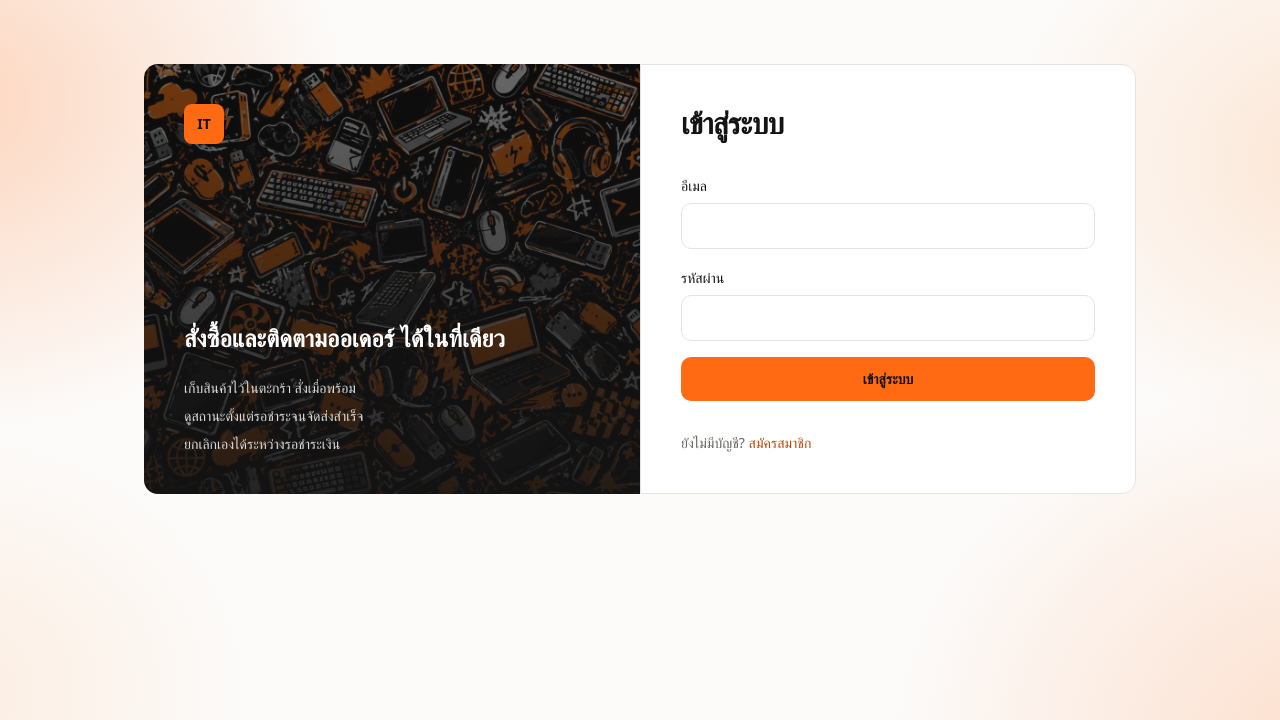
รหัสผิด ต้องแสดงข้อความจาก server และยังอยู่หน้าเดิม
The image size is (1280, 720).
In the field labelled "อีเมล": coordinates (888, 226) [681,203,1095,249], type "ness@example.com"
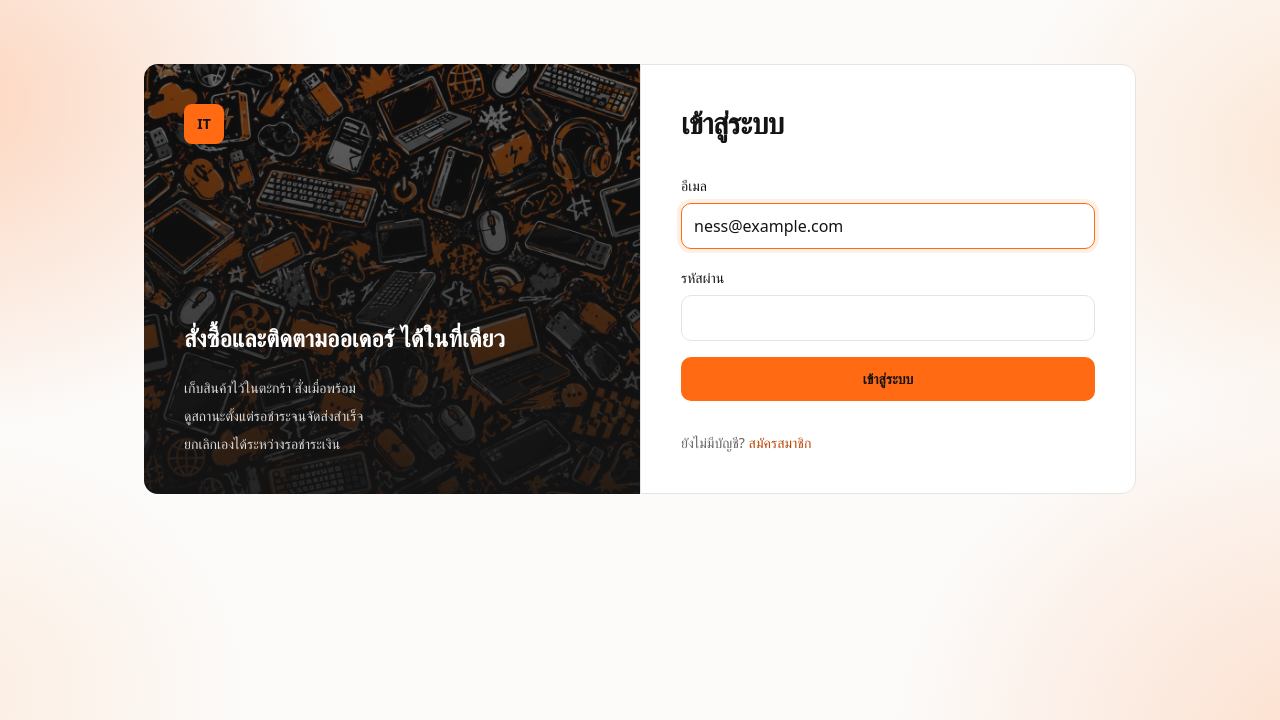
In the password field labelled "รหัสผ่าน": coordinates (888, 318) [681,295,1095,341], type "wrongpass"
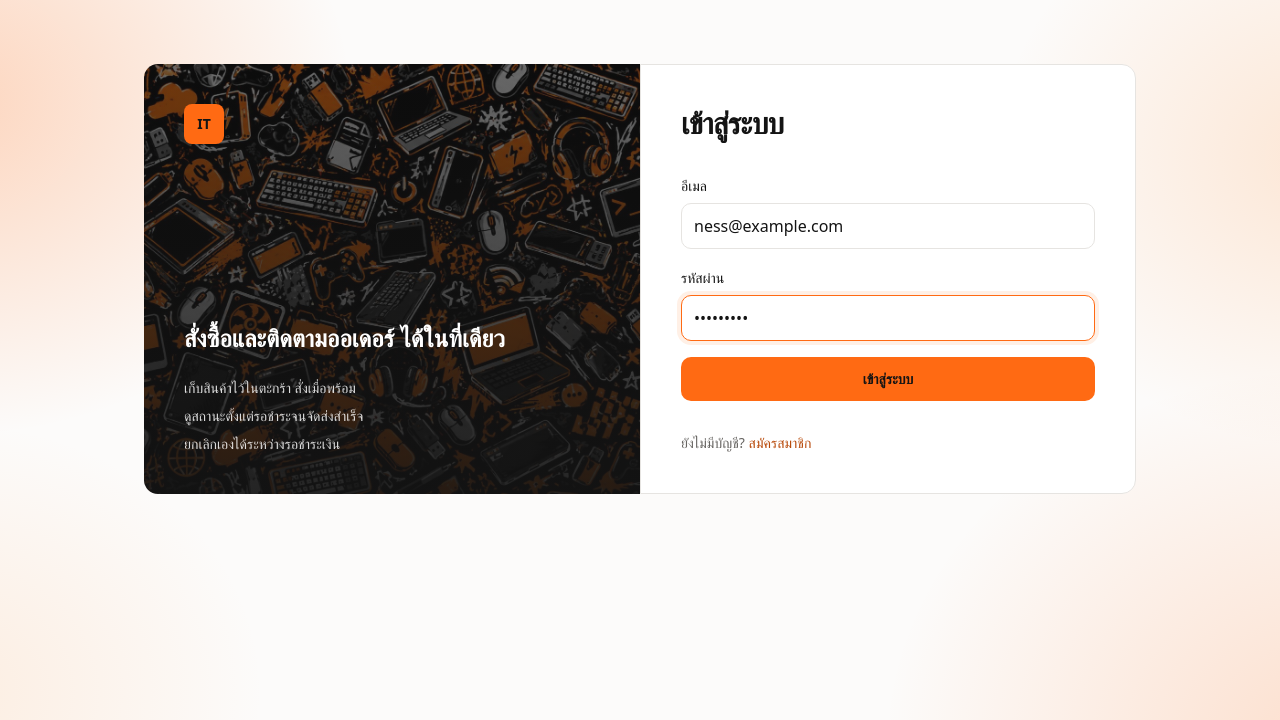
Click the button "เข้าสู่ระบบ": coordinates (888, 379) [681,357,1095,401]
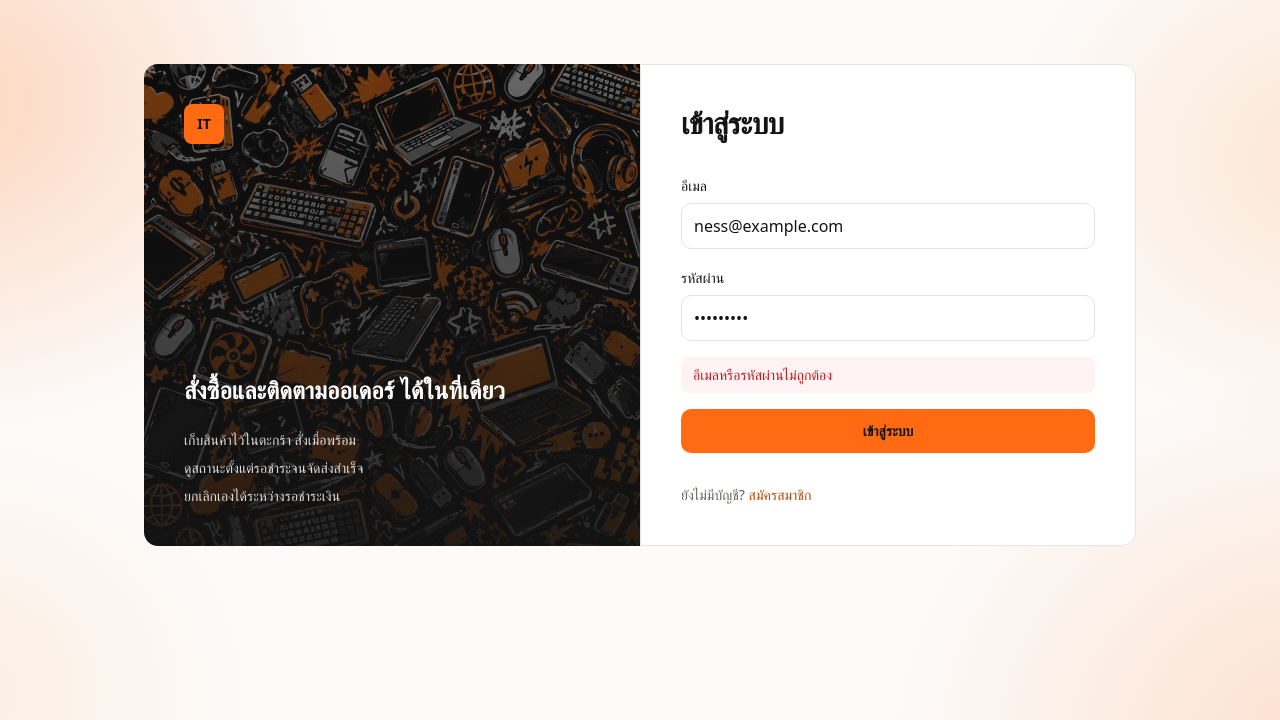
Result: the message reads "อีเมลหรือรหัสผ่านไม่ถูกต้อง" at [693,365,832,384]
